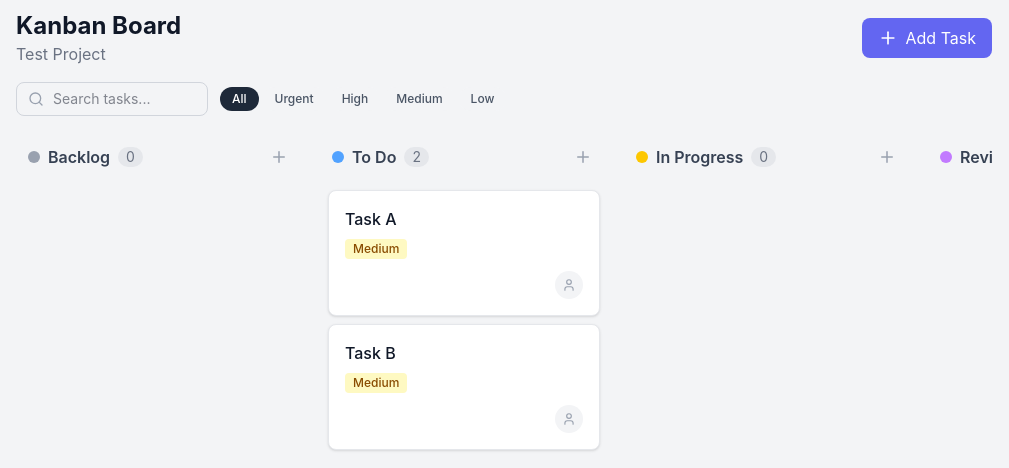
it: KanbanPage › clears search with X button
The width and height of the screenshot is (1009, 468).
Expected: the heading "Task A" is shown, [345, 209, 396, 229]
Type "Task A" into the field labelled "Search tasks".
click(112, 99); type("Task A")  # box [16, 82, 208, 116]
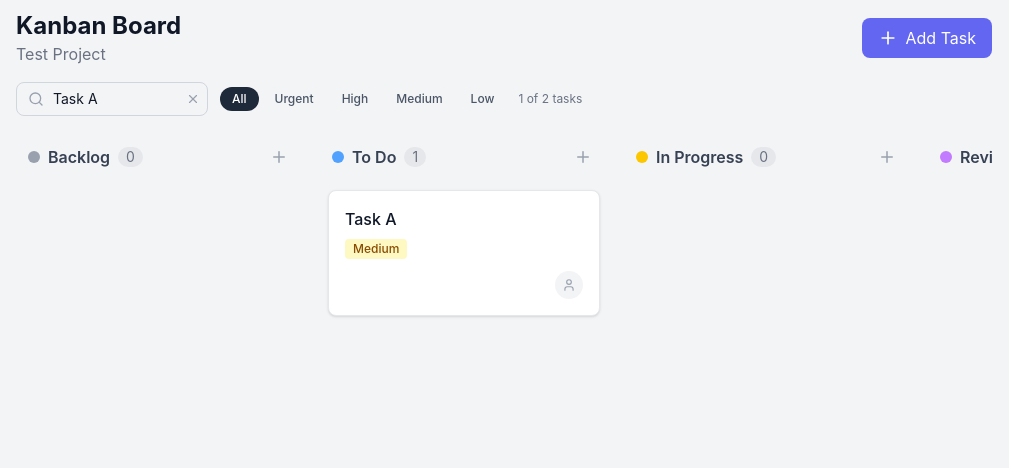
Expected: the button "Task B" is gone
Click the button named "Clear search".
click(193, 99)  # box [186, 92, 200, 106]
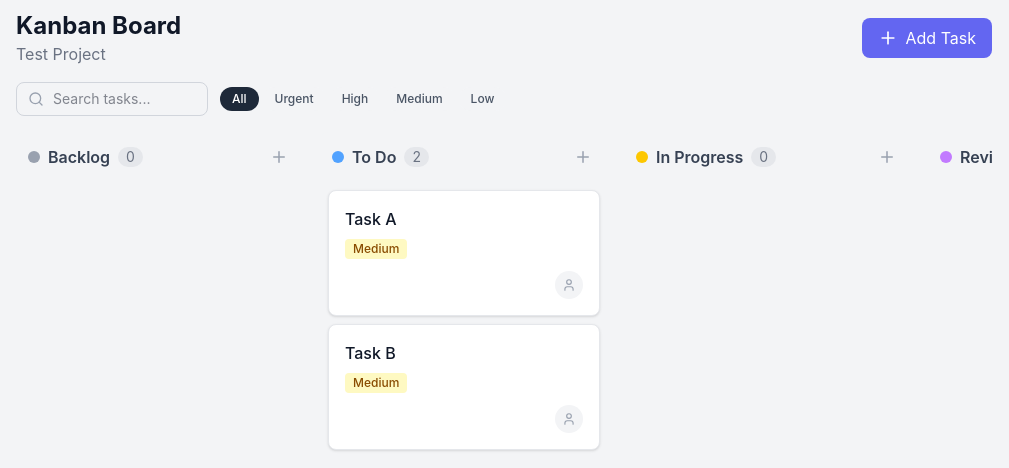
Expected: the heading "Task A" is shown, [345, 209, 396, 229]
Expected: the heading "Task B" is shown, [345, 343, 396, 363]
